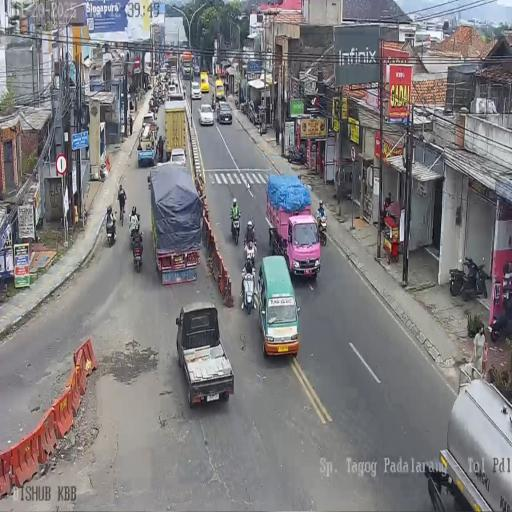3: (148, 164, 201, 287), (268, 175, 322, 280), (142, 112, 156, 144), (167, 54, 178, 77), (182, 60, 193, 80)
car: (175, 304, 234, 406), (254, 256, 297, 354), (215, 100, 233, 124), (198, 103, 215, 126), (170, 147, 186, 167), (190, 80, 202, 100), (215, 78, 225, 101), (200, 72, 209, 93), (168, 82, 177, 100), (160, 64, 168, 77), (193, 64, 200, 76)
truck: (460, 254, 490, 300), (490, 295, 512, 343), (131, 230, 144, 271), (449, 266, 466, 296), (286, 143, 306, 165), (316, 212, 328, 246), (230, 208, 241, 244), (106, 215, 116, 247), (240, 98, 251, 117), (153, 98, 159, 114), (211, 94, 216, 111), (164, 88, 169, 102), (235, 95, 238, 109)
